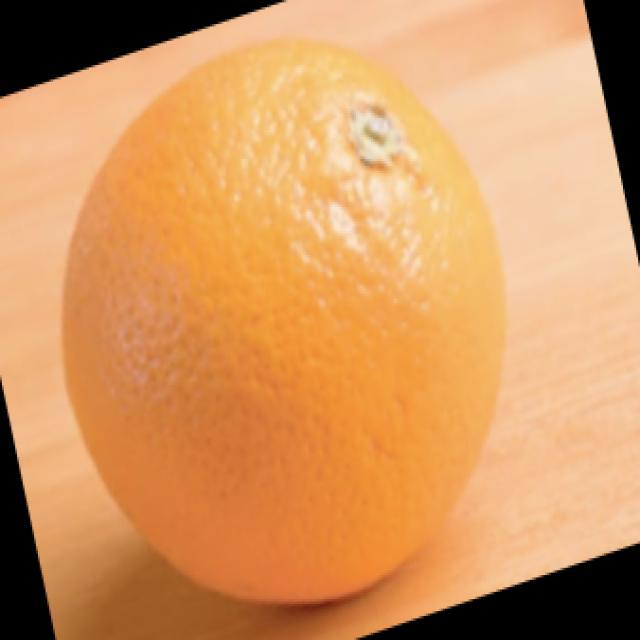matang: (63, 41, 502, 601)
